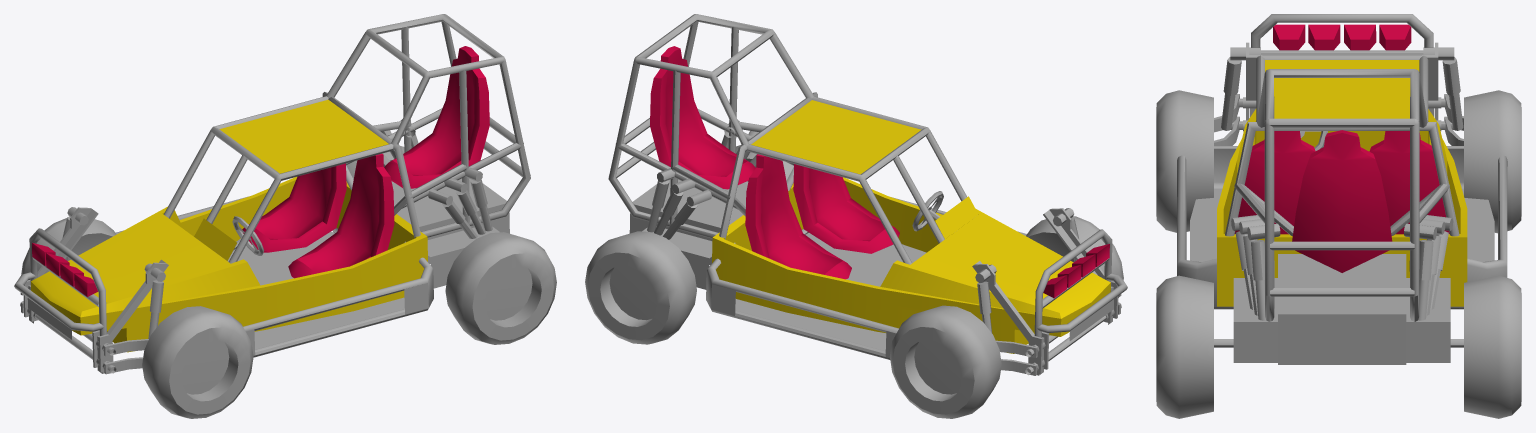
The model's file is car_buggy.fbx.
The picture shows the model from 3 angles, left to right: view 1: azimuth 30°, elevation 25°; view 2: azimuth 150°, elevation 25°; view 3: azimuth 270°, elevation 25°; orthographic projection. The views are drawn at different scales.
Parts seen in each view (by area): view 1: polySurface1283; view 2: polySurface1283; view 3: polySurface1283.
Boxes of the visible parts, bbox=[...] form: polySurface1283: bbox=[14, 14, 556, 418]; polySurface1283: bbox=[585, 14, 1127, 418]; polySurface1283: bbox=[1156, 14, 1521, 418].
Bounding box in the file's own units: 357 × 189 × 197.
